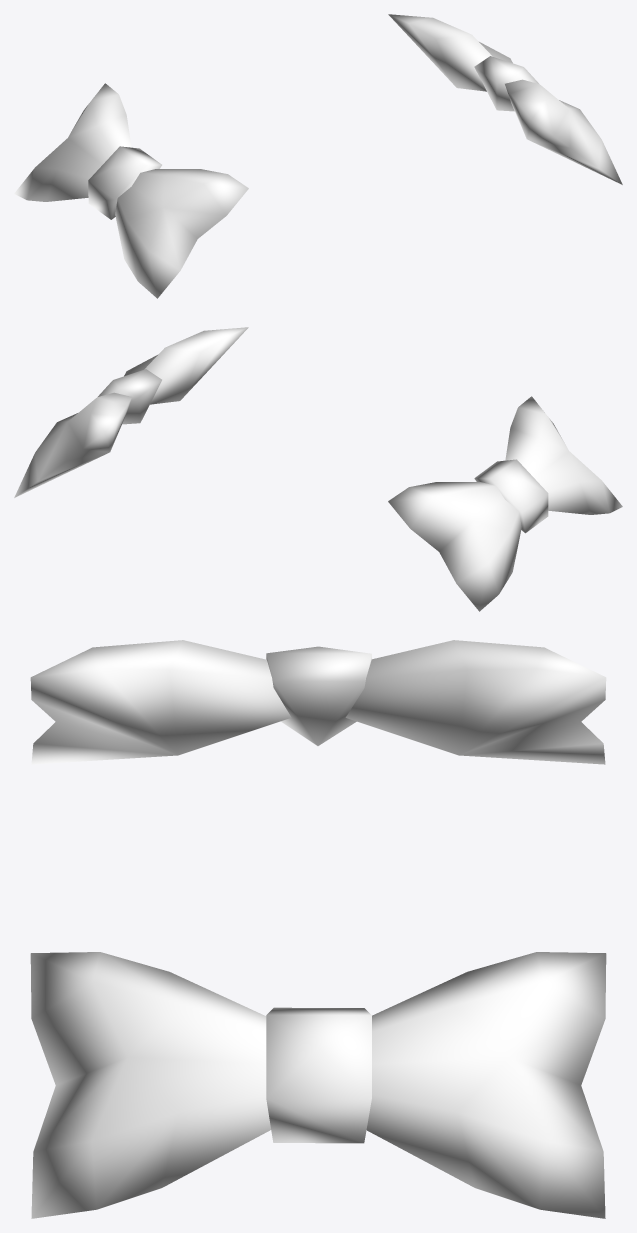
File: hat_4.glb
The picture shows the model from 3 angles, top to bottom: view 1: azimuth 30°, elevation 25°; view 2: azimuth 150°, elevation 25°; view 3: azimuth 270°, elevation 25°; orthographic projection. The views are drawn at different scales.
Parts seen in each view (by area): view 1: Ribbon_L, Ribbon_R; view 2: Ribbon_L, Ribbon_R; view 3: Ribbon_R, Ribbon_L.
Part boxes in pixels (x1,y1,x2,y2): Ribbon_L: (14,83,248,298); Ribbon_R: (388,14,622,184); Ribbon_L: (388,396,622,611); Ribbon_R: (14,327,248,497); Ribbon_R: (30,952,606,1218); Ribbon_L: (30,640,606,764).
Bounding box in the file's own units: 63.31 × 11.62 × 33.43.
Materials: 1 (1 with a texture image).
